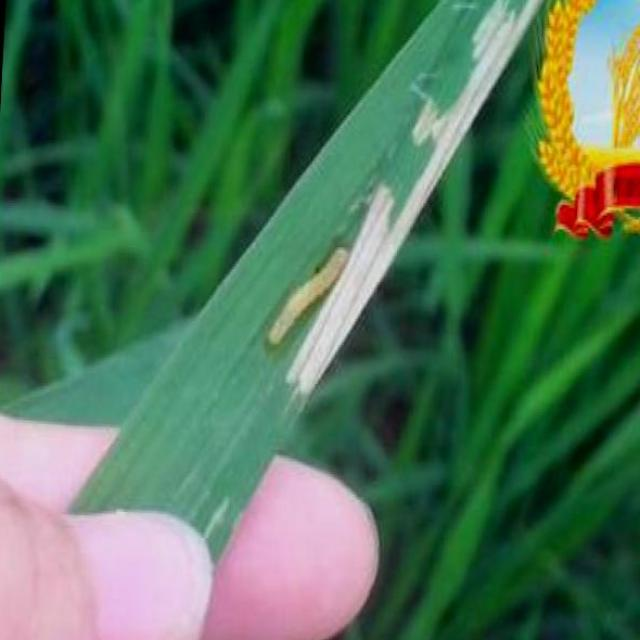leaf folder: (268, 248, 346, 345)
